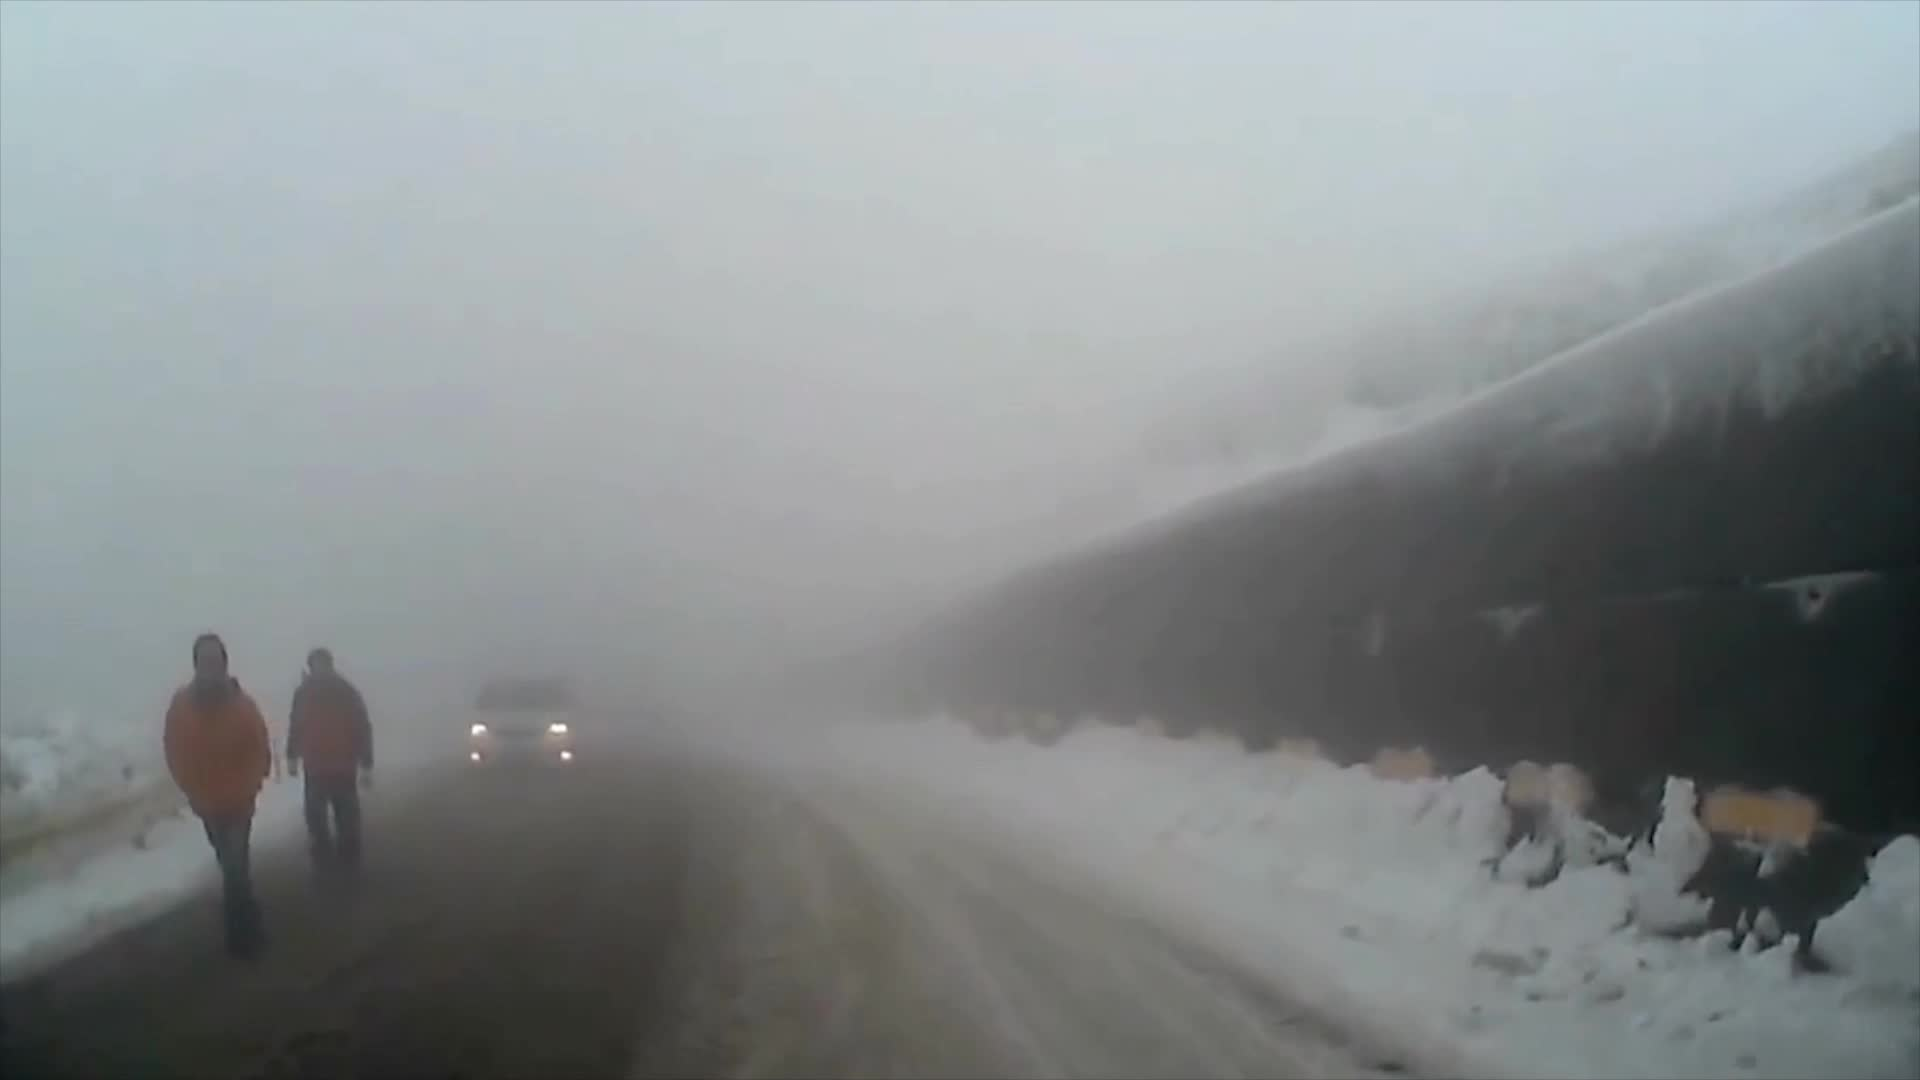pedestrian: (165, 627, 277, 958), (286, 647, 374, 886)
vehicle: (466, 671, 582, 774)
